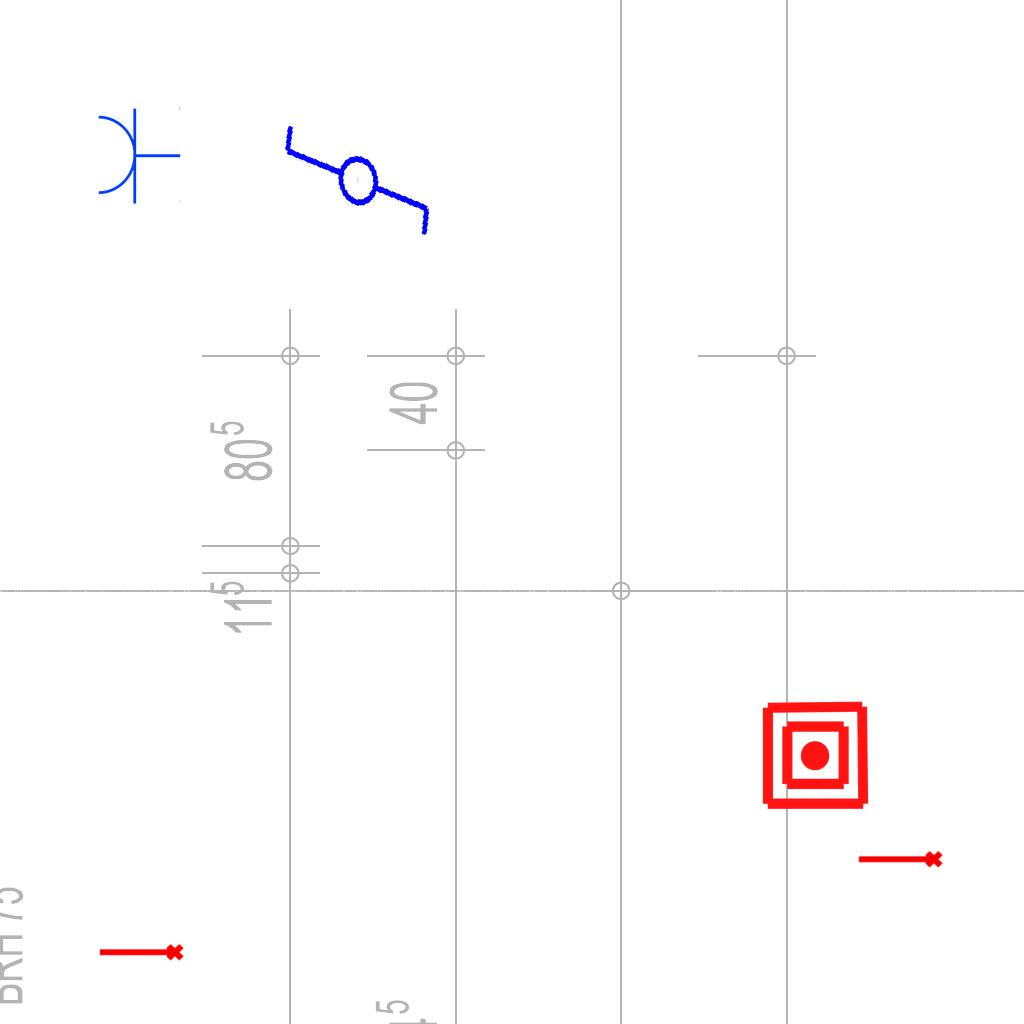ASR_Ansaugoeffnung: (856, 849, 944, 872), (97, 942, 185, 965)
NAM-Nichtautomatischer_Melder: (759, 699, 872, 812)
Schukosteckdose_einfach: (94, 105, 181, 205)
Wechselschalter: (272, 99, 443, 279)
